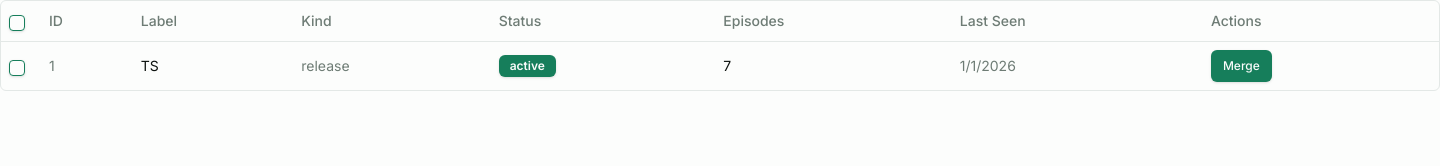
Test: TopicsTable › bulk-action bar appears when a row is selected
Click the checkbox named "select TS" at (17, 68), box x1=9 y1=60 x2=25 y2=76
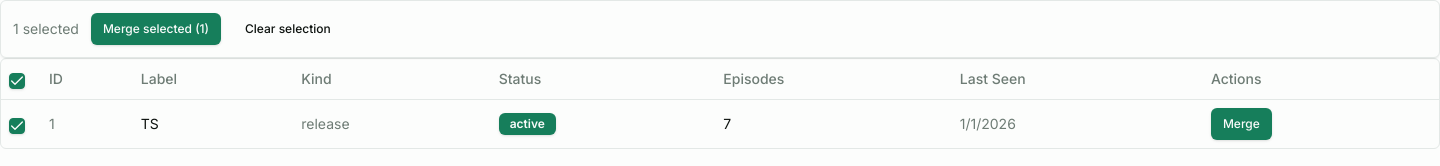
Now the button "Merge selected (1)" is shown, box x1=91 y1=13 x2=221 y2=45
Now the button "Clear selection" is shown, box x1=233 y1=13 x2=343 y2=45
